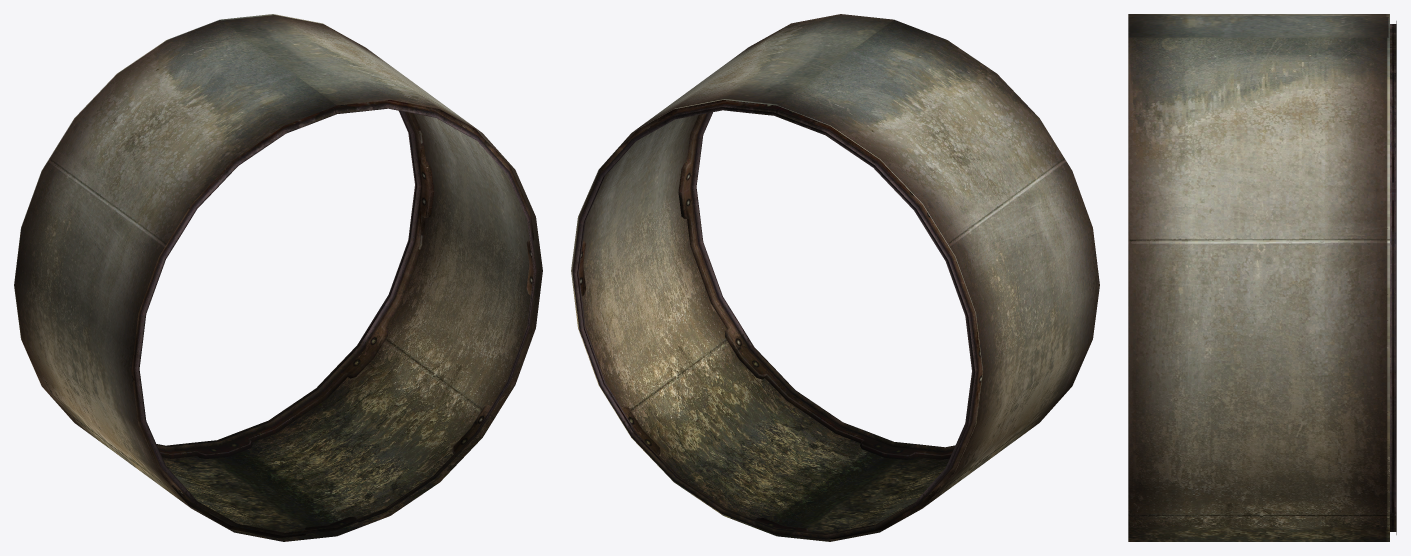
File: flush_tunnel_02_07_straight_extrashort.DAE
3 views of the same model, side by side, from view 1: azimuth 30°, elevation 25°; view 2: azimuth 150°, elevation 25°; view 3: azimuth 270°, elevation 25° (orthographic). The views are drawn at different scales.
Parts seen in each view (by area): view 1: polySurface612; view 2: polySurface612; view 3: polySurface612.
Boxes of the visible parts, box(x1,y1,x2,y2) form: polySurface612: box(14, 14, 542, 541); polySurface612: box(571, 14, 1099, 541); polySurface612: box(1128, 14, 1396, 541).
Size of the model in its own units: 4 by 4 by 2.02.
